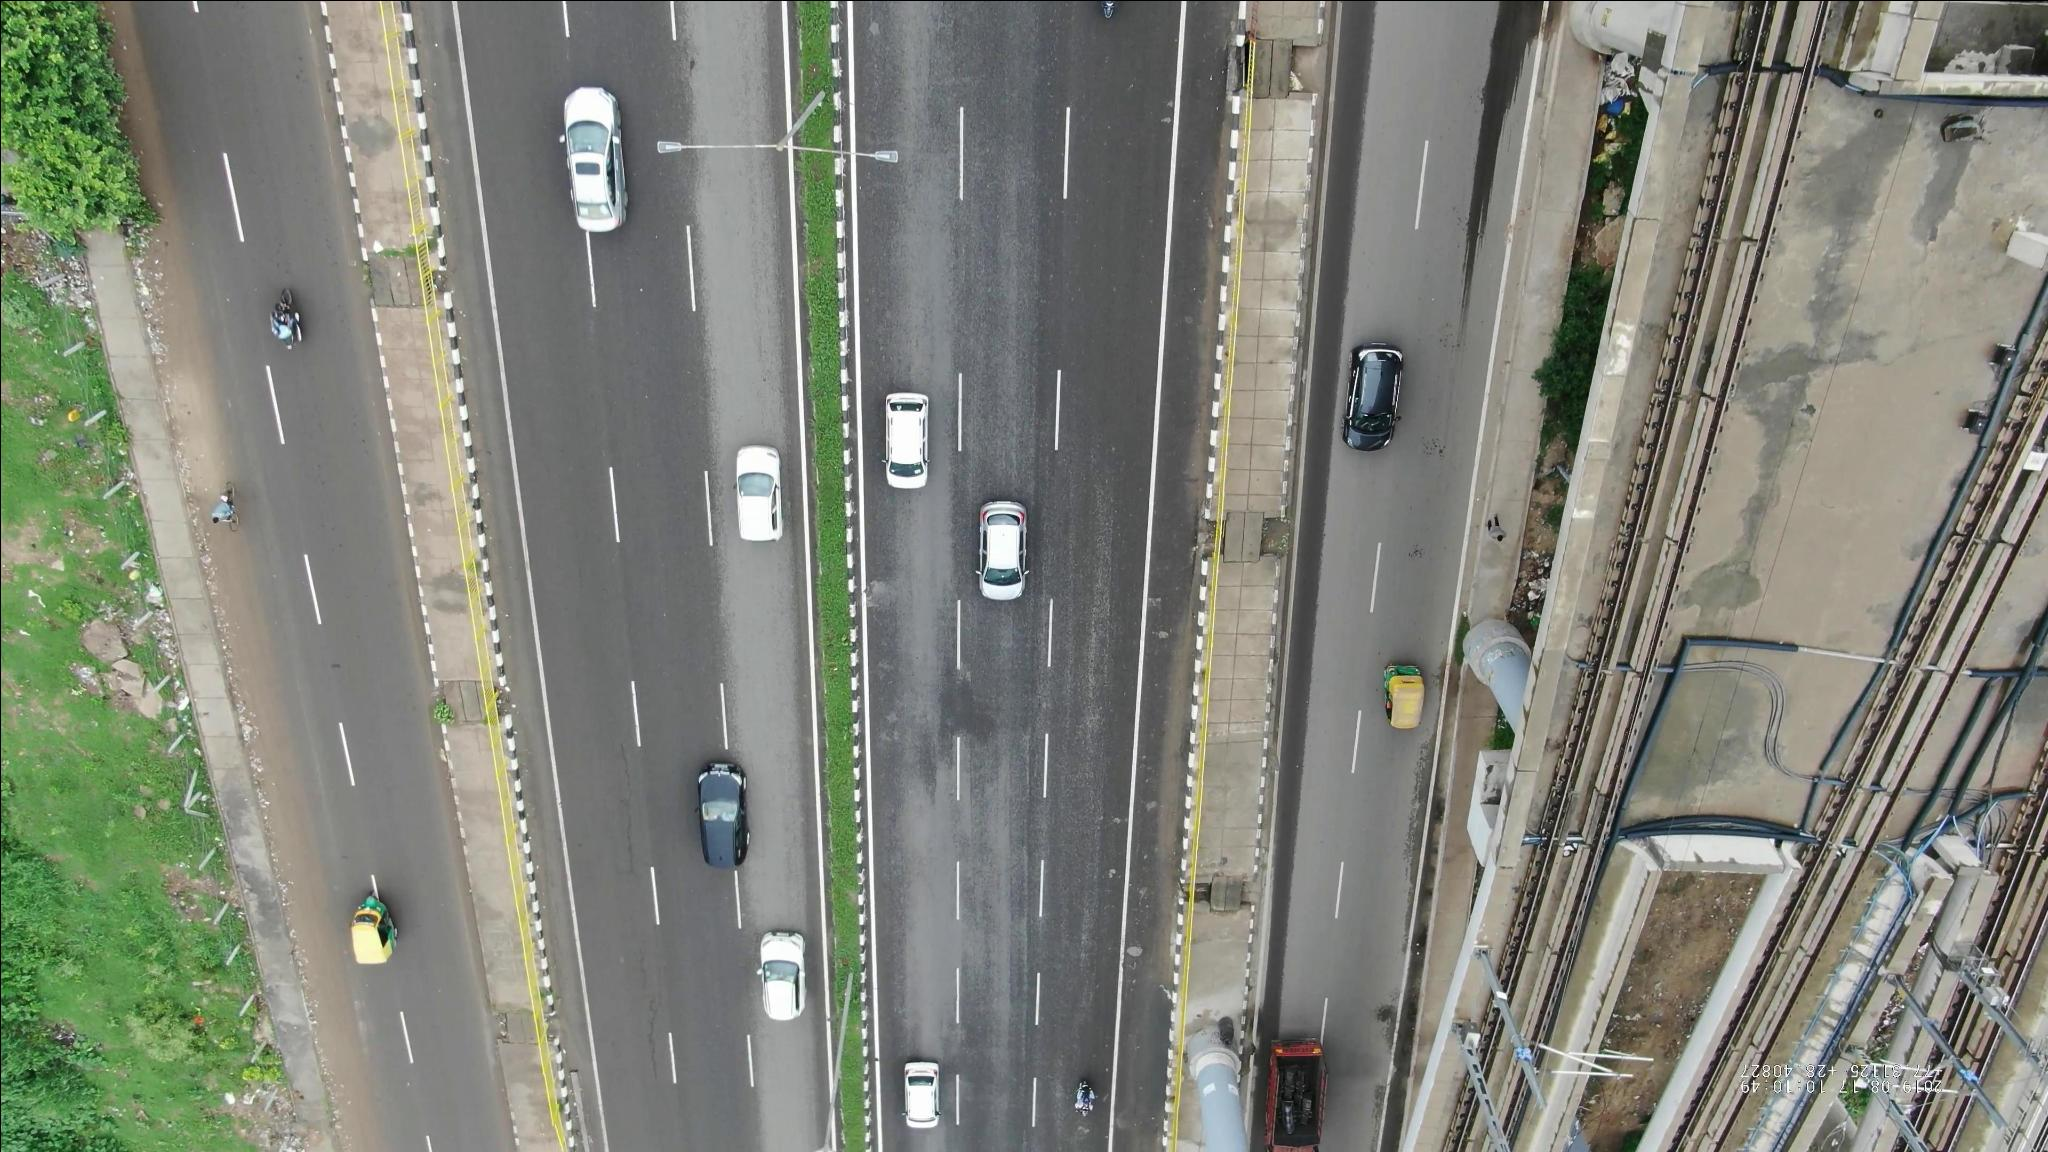Muddy_road: (148, 270, 224, 442), (246, 700, 315, 850), (201, 532, 271, 674), (318, 1000, 390, 1139)
